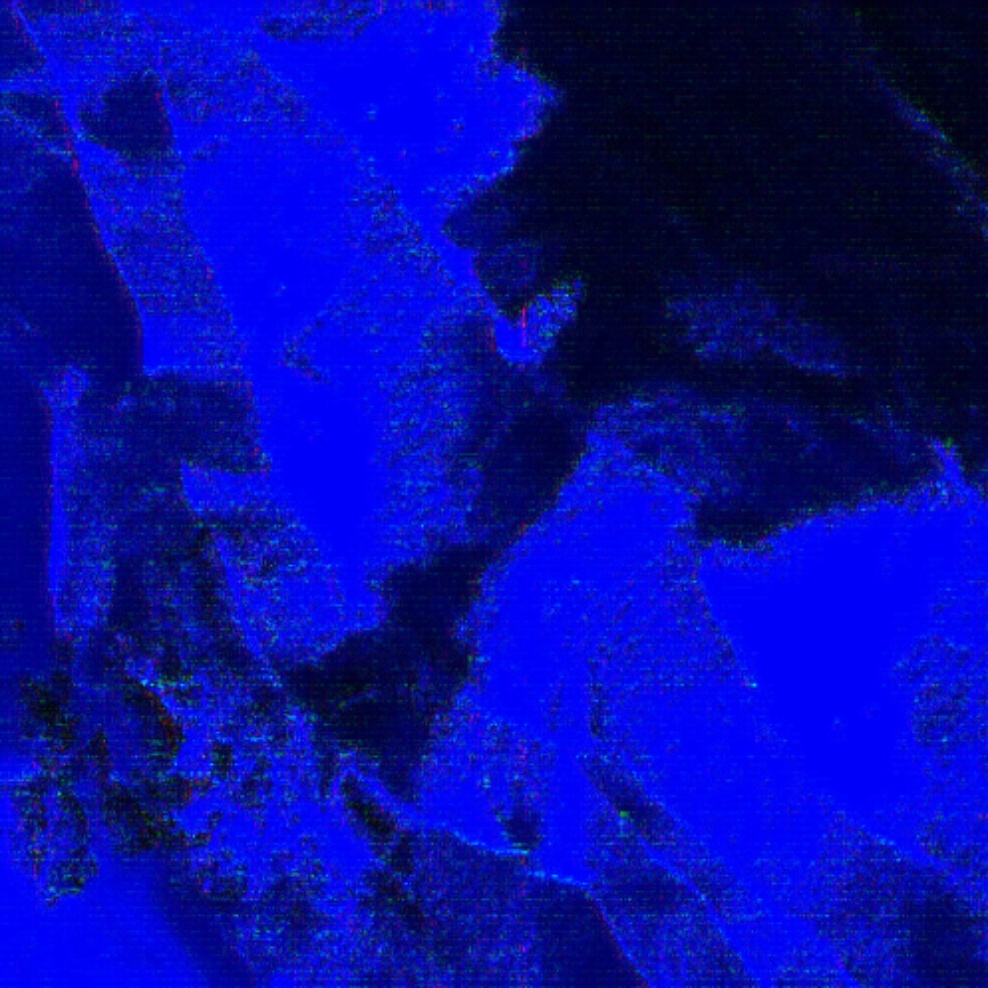rip_current: (260, 256, 682, 803)
